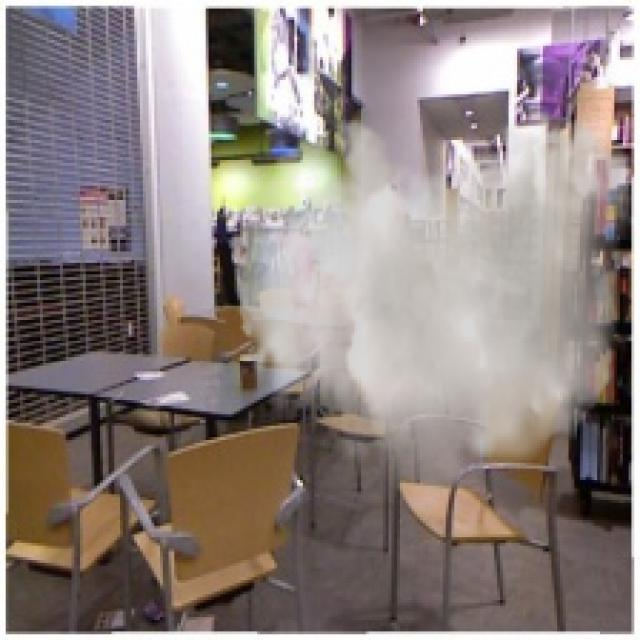smoke: (235, 106, 634, 520)
